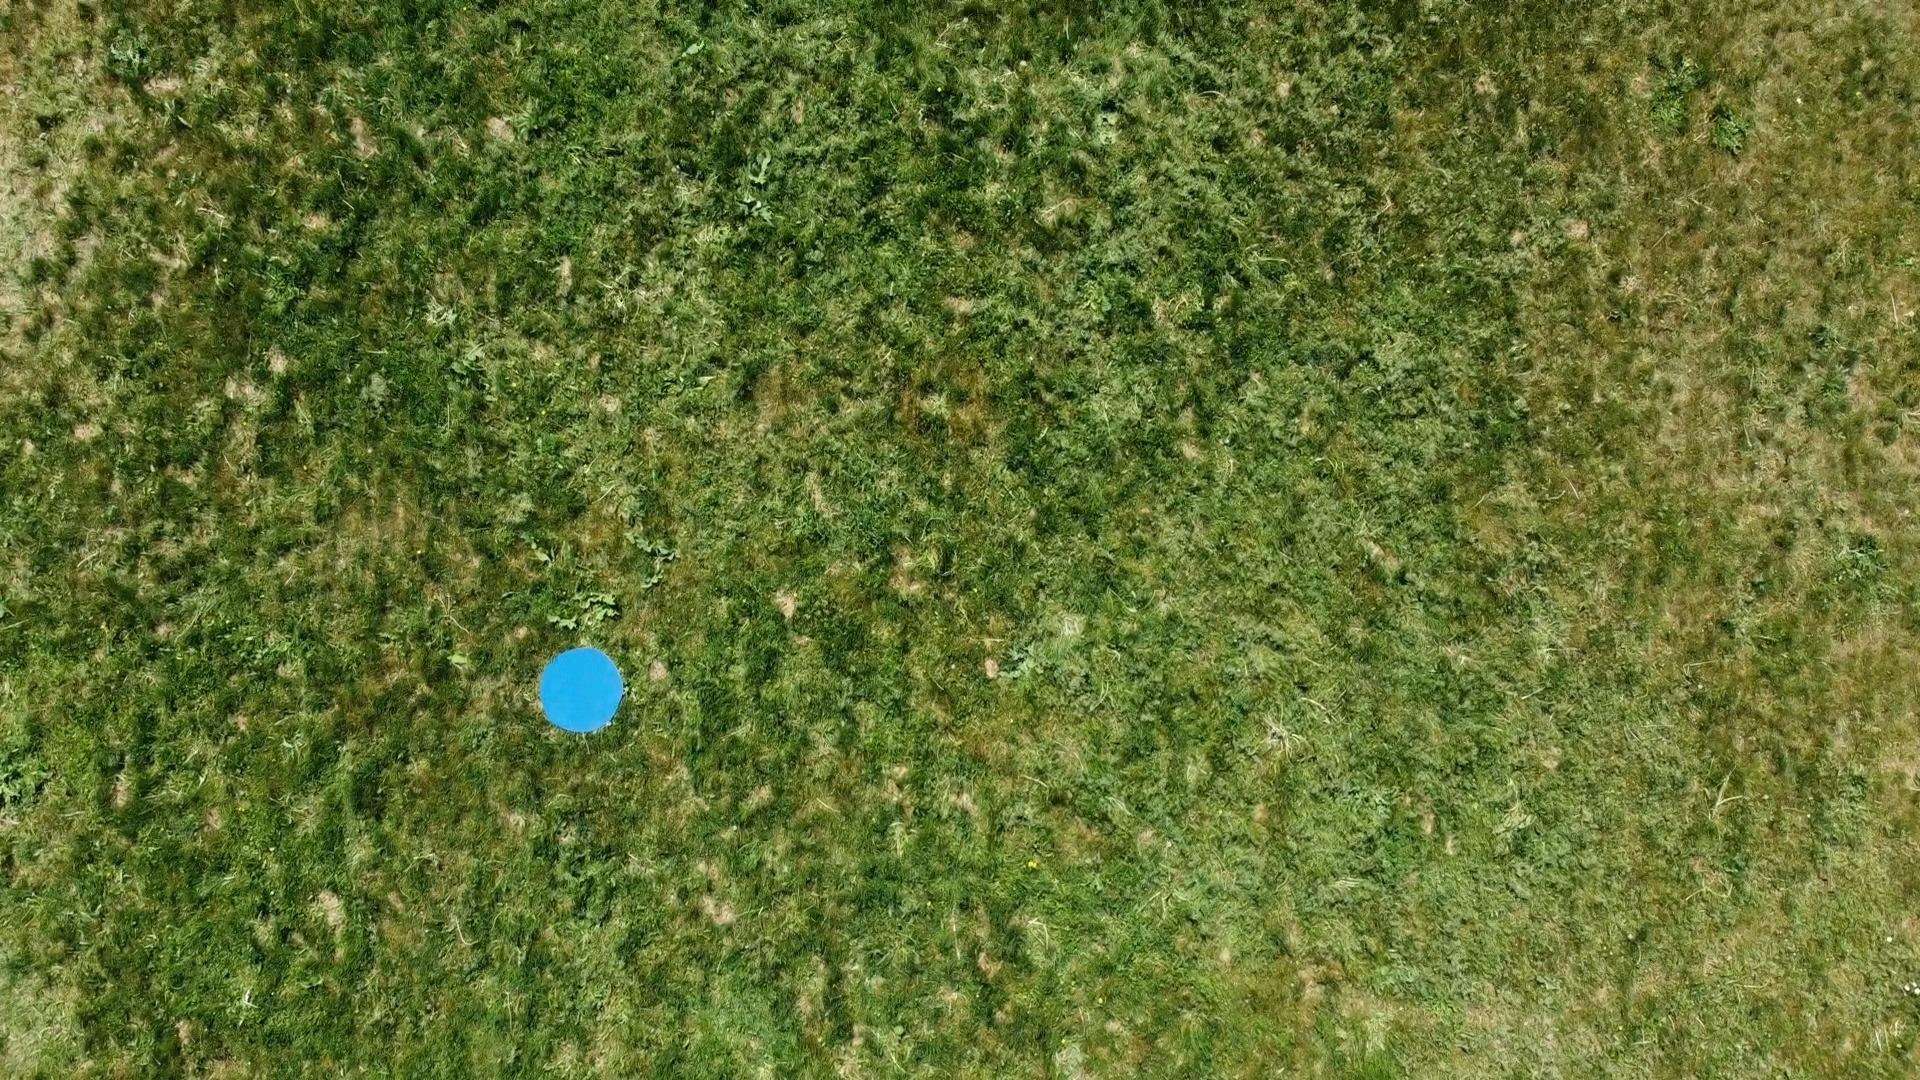Blue: (538, 645, 628, 737)
